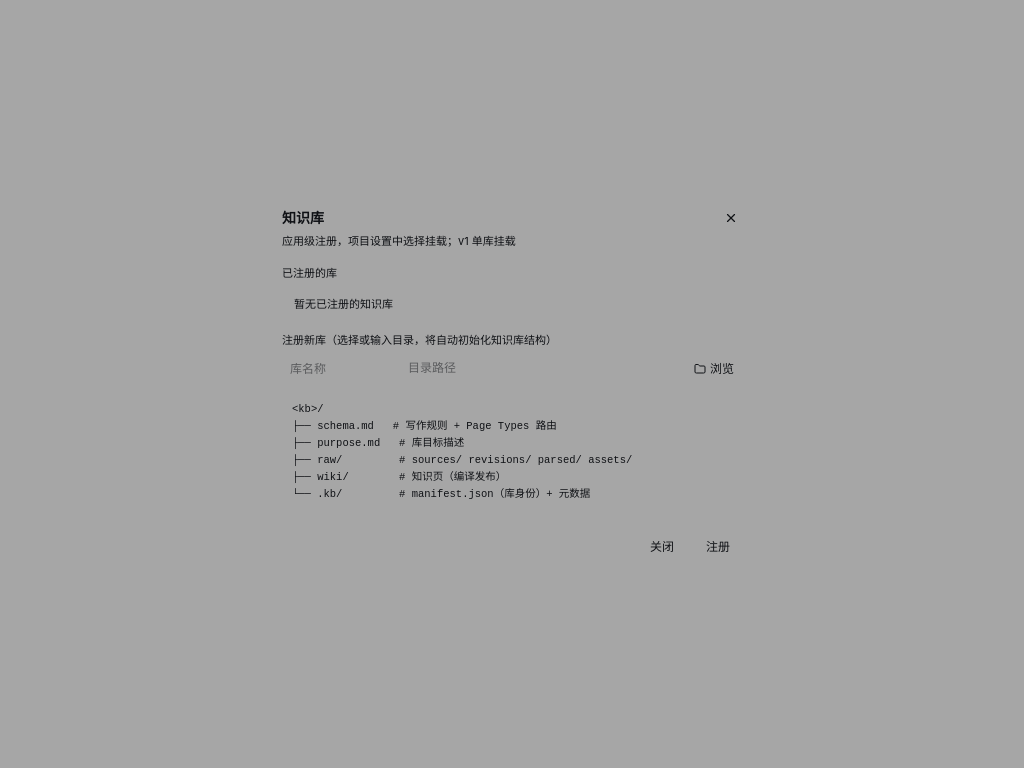
Test: KbModal › shows copy-conflict hint with "注册为副本" entry on kbIdConflict
Type "副本库" into the field with placeholder "库名称" at (338, 369), box [282,355,394,383]
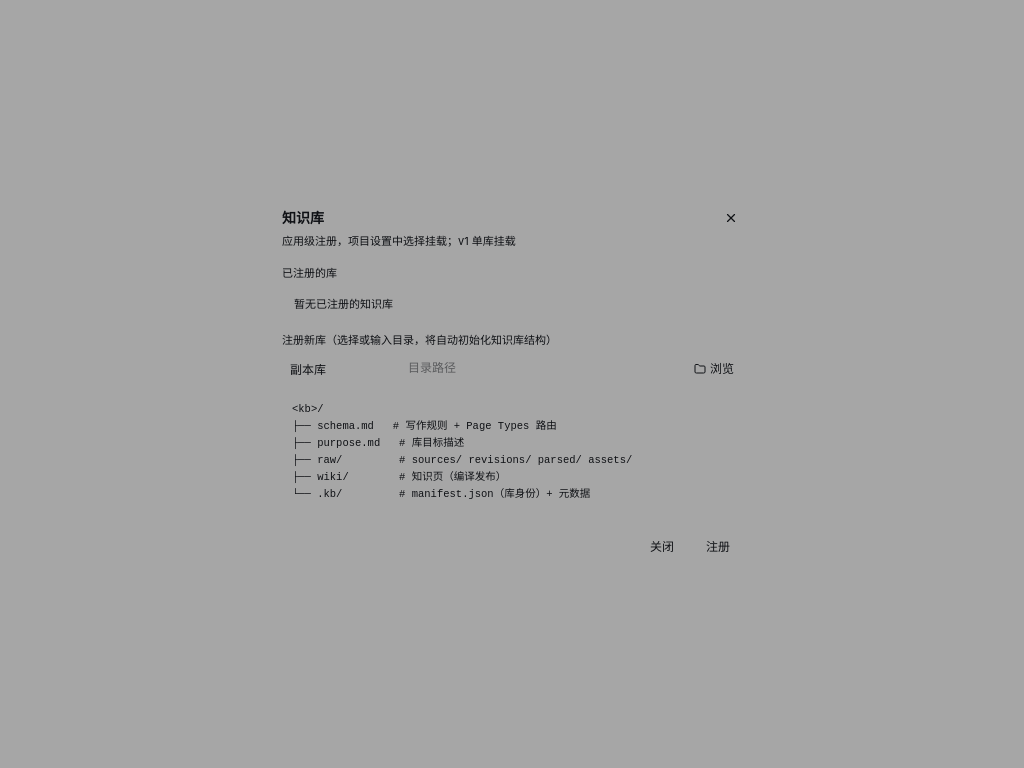
Type "E:\\copy\\kb" into the field with placeholder "目录路径" at (540, 369), box [400,355,680,383]
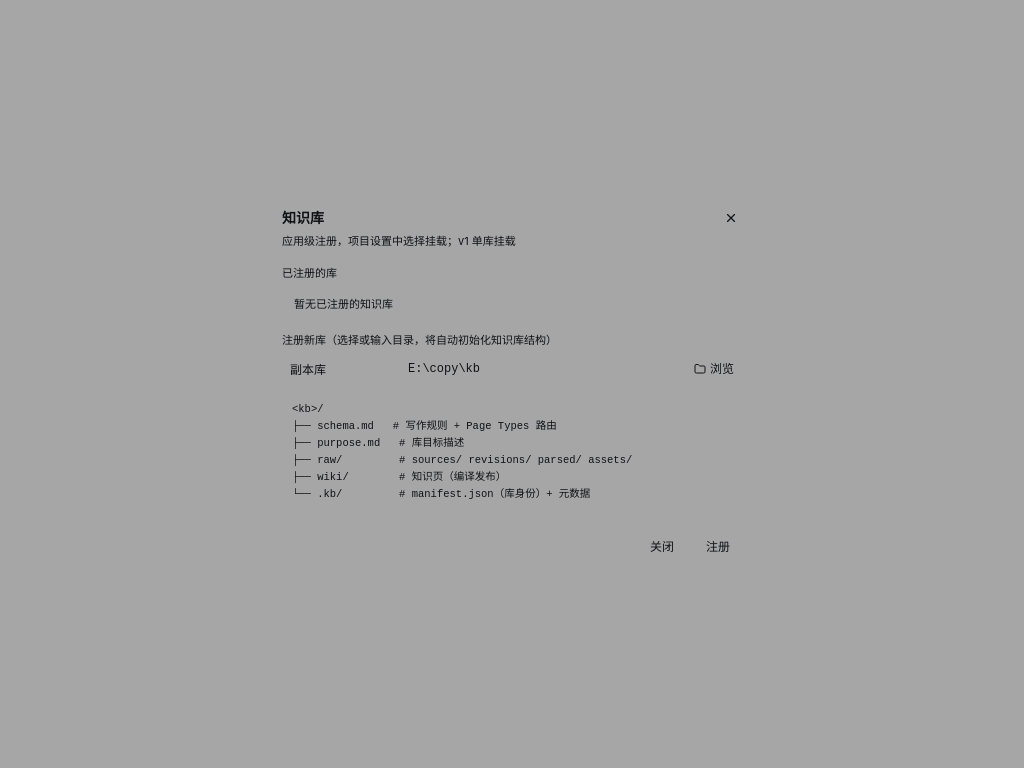
Click the button "注册" at (718, 547), box [694,533,742,561]
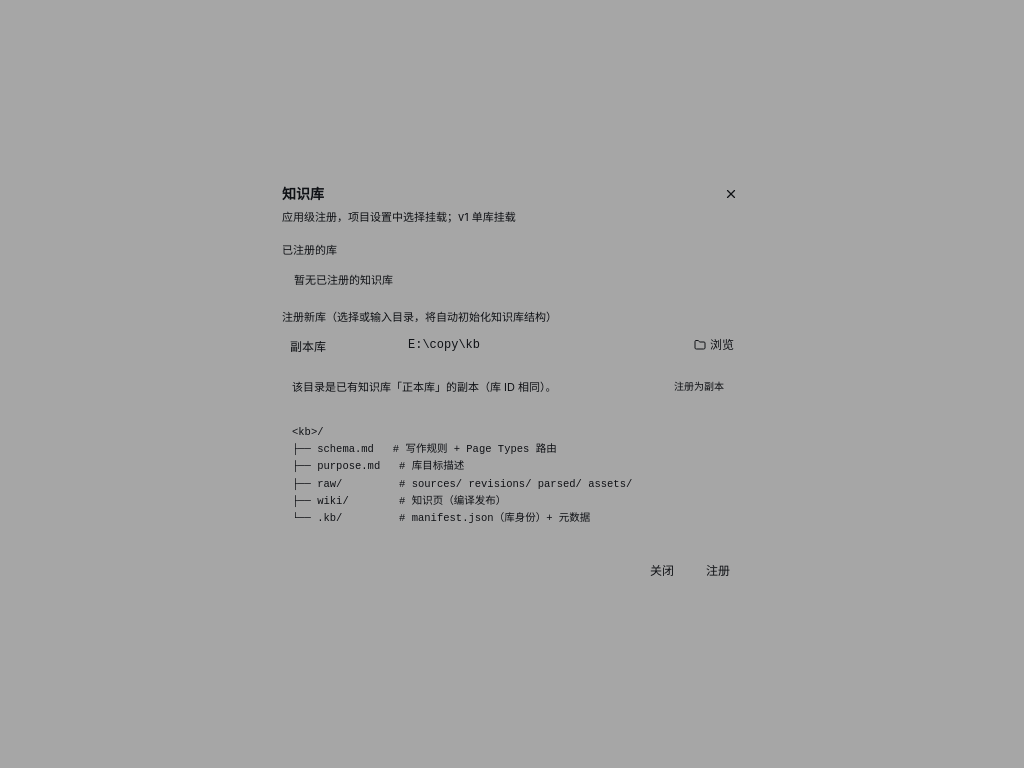
Result: the text "该目录是已有知识库「正本库」的副本（库 ID 相同）。" is shown at [292,380,557,394]
Result: the button "注册为副本" is shown at [666,375,732,398]
